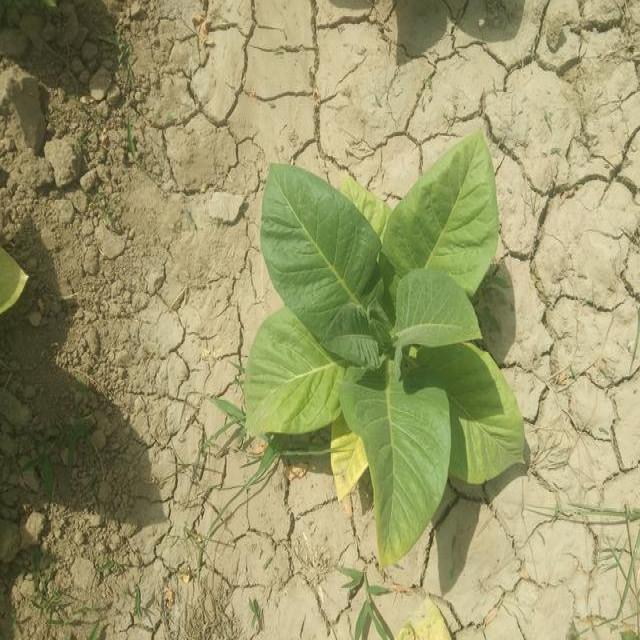crop: (240, 139, 518, 542)
